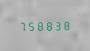eight: (36, 20, 44, 31), (45, 19, 53, 30), (63, 19, 71, 30)
five: (26, 20, 34, 31)
seven: (17, 20, 25, 31)
three: (54, 19, 62, 30)
